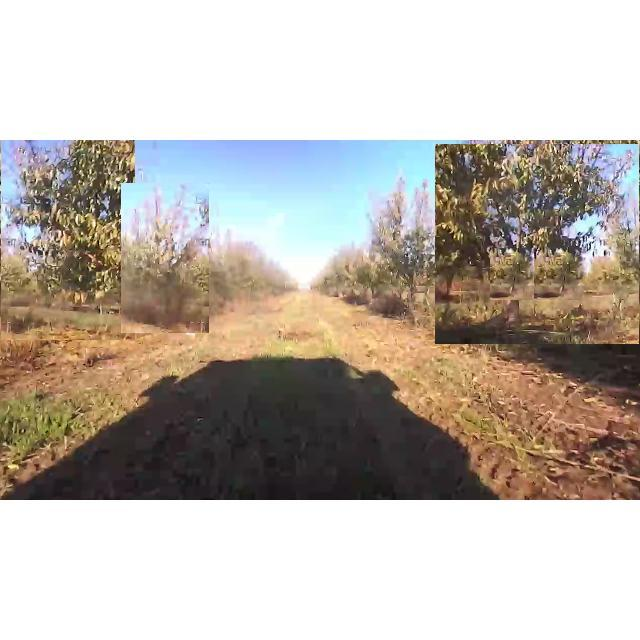direk: (435, 143, 639, 344), (1, 140, 135, 340), (366, 174, 464, 328), (121, 183, 209, 333), (490, 248, 534, 300)
